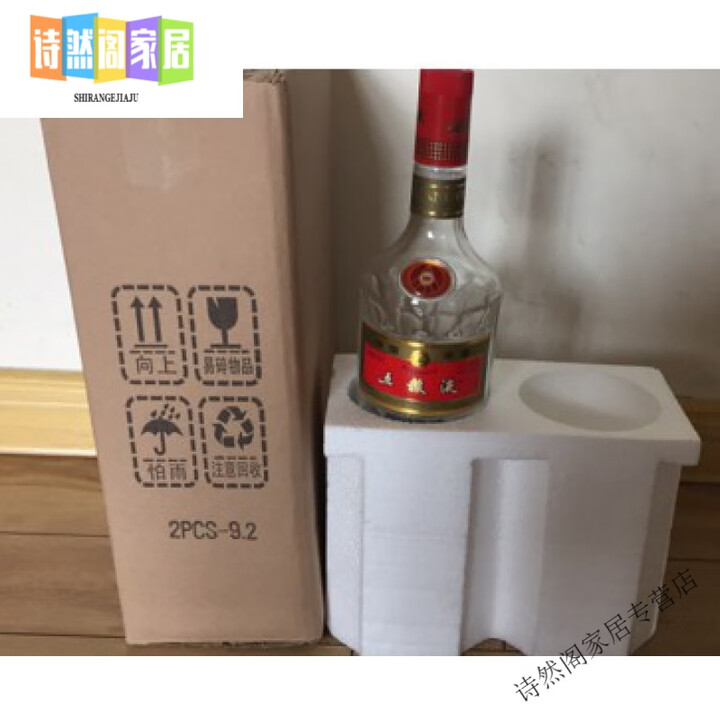Boxes: (325, 356, 699, 656)
